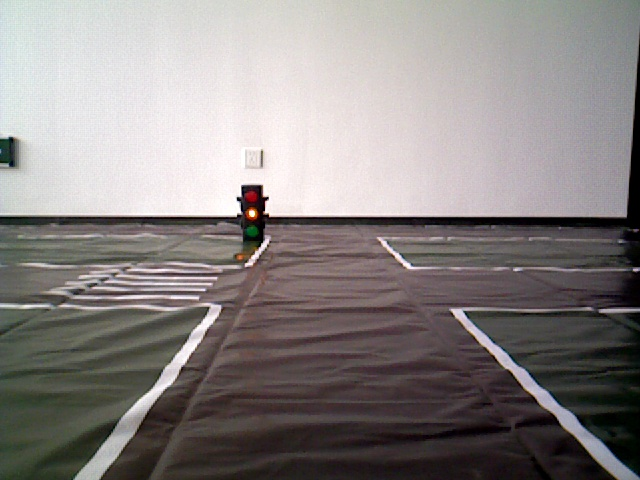yellow: (237, 186, 267, 246)
